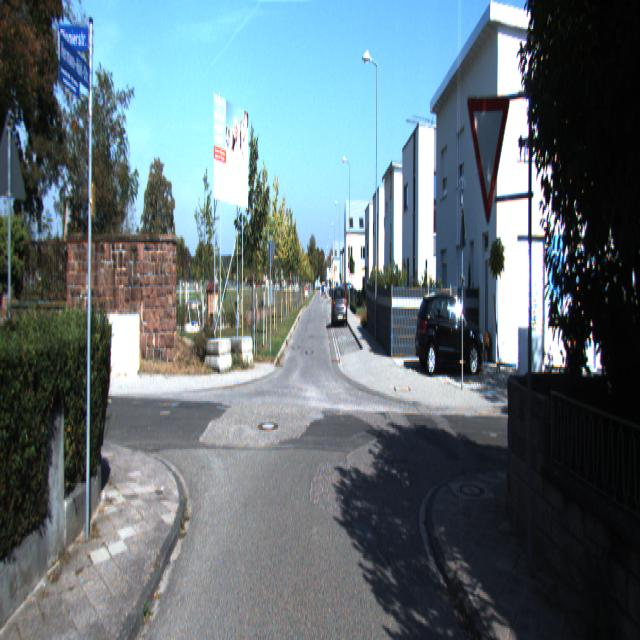Car: (413, 283, 485, 377), (332, 286, 347, 328)
